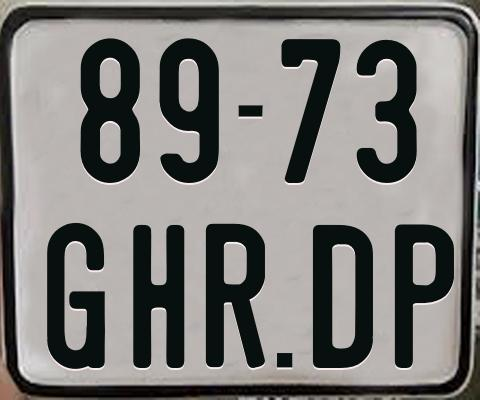3: (356, 38, 420, 186)
7: (279, 36, 341, 181)
8: (79, 37, 139, 188)
9: (159, 36, 220, 181)
D: (311, 225, 373, 373)
G: (46, 220, 104, 371)
H: (133, 224, 186, 370)
P: (395, 224, 456, 372)
R: (205, 222, 266, 372)
